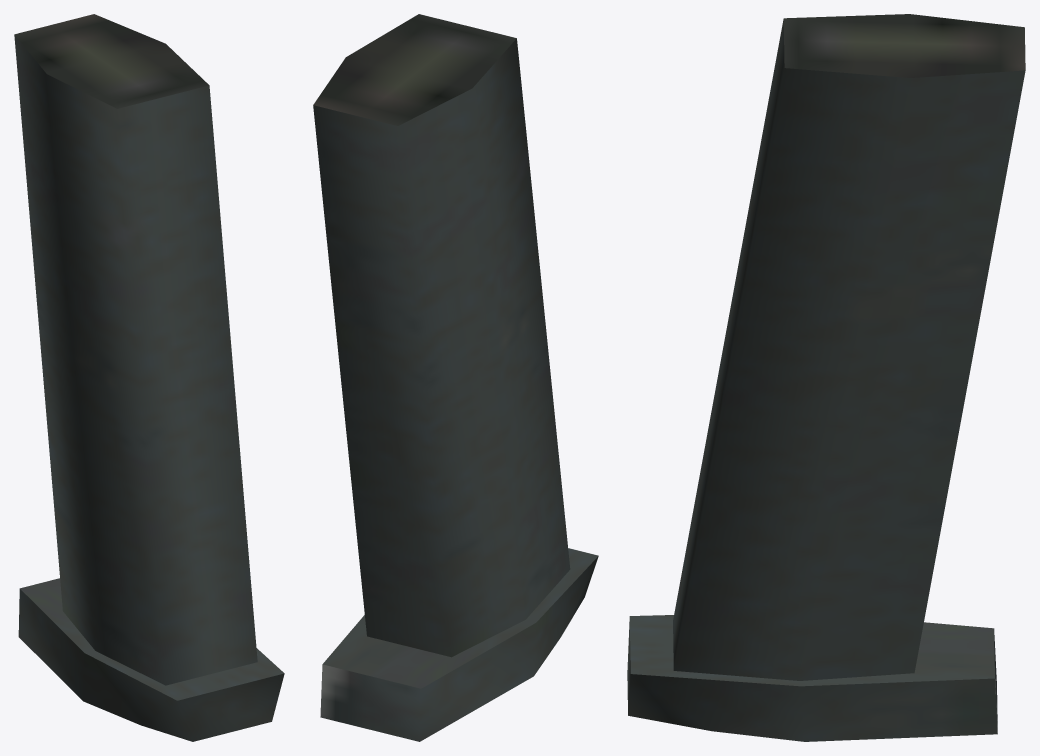
Rendered from w_PistolMagazine.fbx.
3 renders of one model, left to right at view 1: azimuth 30°, elevation 25°; view 2: azimuth 150°, elevation 25°; view 3: azimuth 270°, elevation 25°, orthographic. The views are drawn at different scales.
Visible parts, largest first — view 1: w_pistol_magazine; view 2: w_pistol_magazine; view 3: w_pistol_magazine.
Boxes of the visible parts, x1=… form: w_pistol_magazine: x1=14, y1=14, x2=284, y2=741; w_pistol_magazine: x1=313, y1=14, x2=598, y2=741; w_pistol_magazine: x1=627, y1=14, x2=1025, y2=741.
Size of the model in its own units: 5.37 by 21.98 by 11.88.
